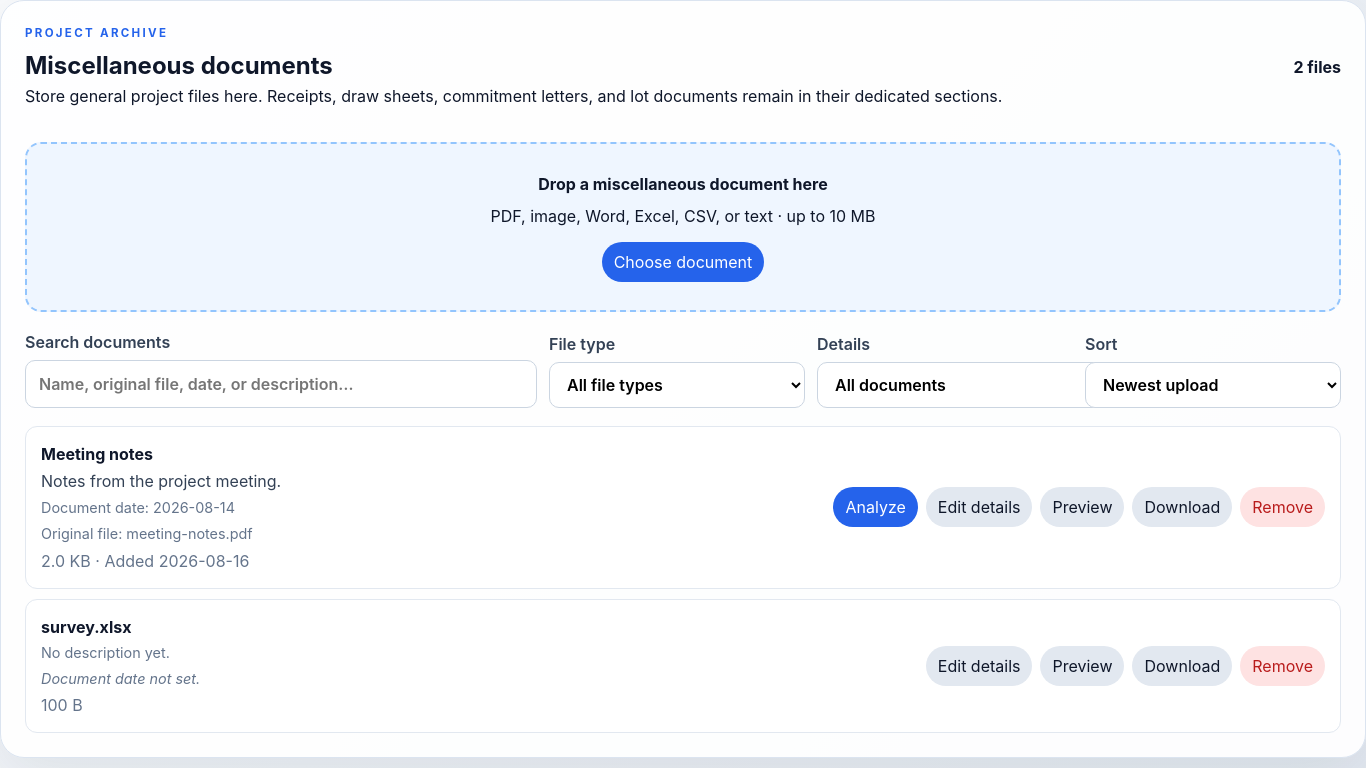
ProjectDocuments › filters documents by filename
The image size is (1366, 768).
Type "survey" into the search field named "Search miscellaneous documents" at (281, 384), box [25,360,537,408]
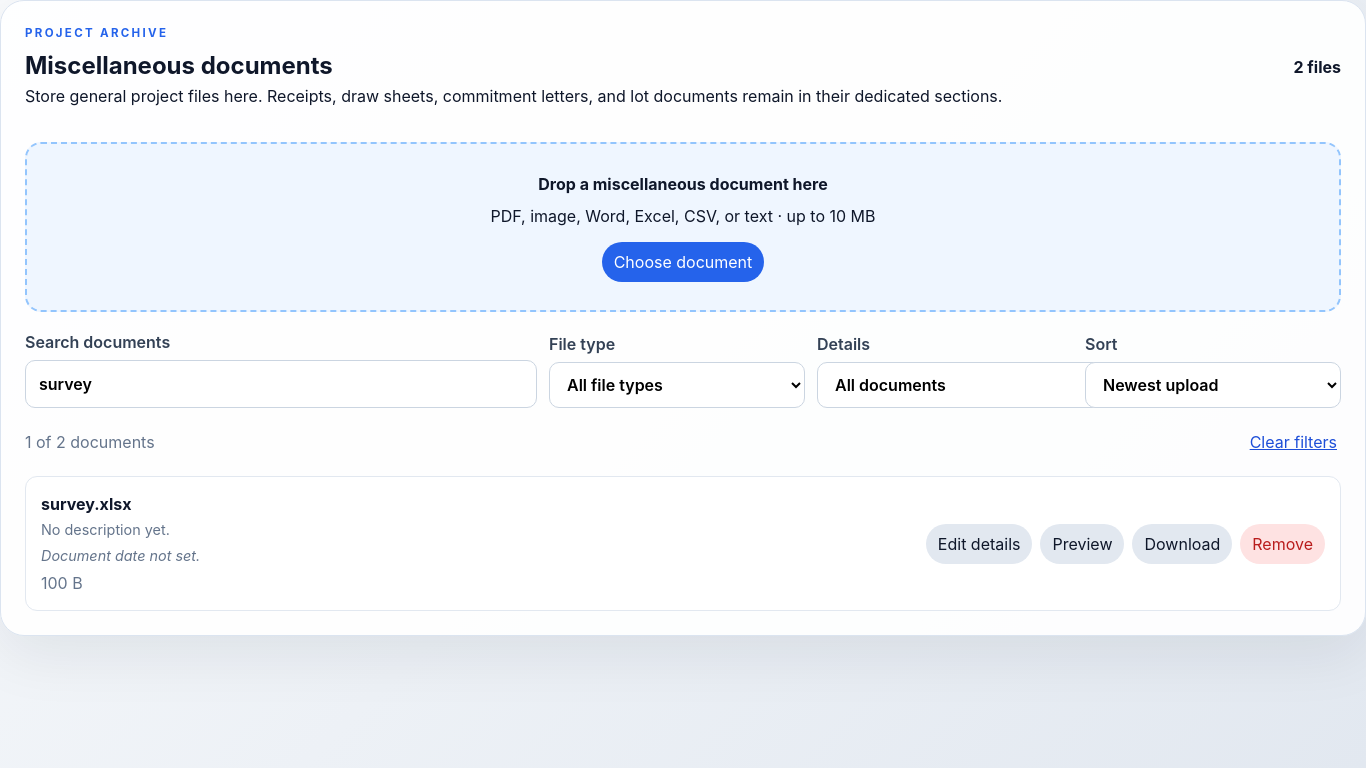
Check: the text "survey.xlsx" is shown, box [41,494,132,514]
Check: the text "Meeting notes" is gone
